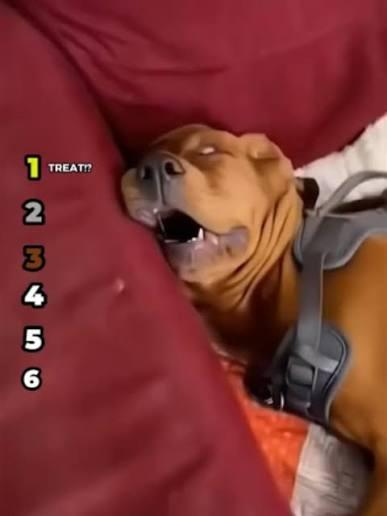adult_dog: (122, 122, 387, 515)
